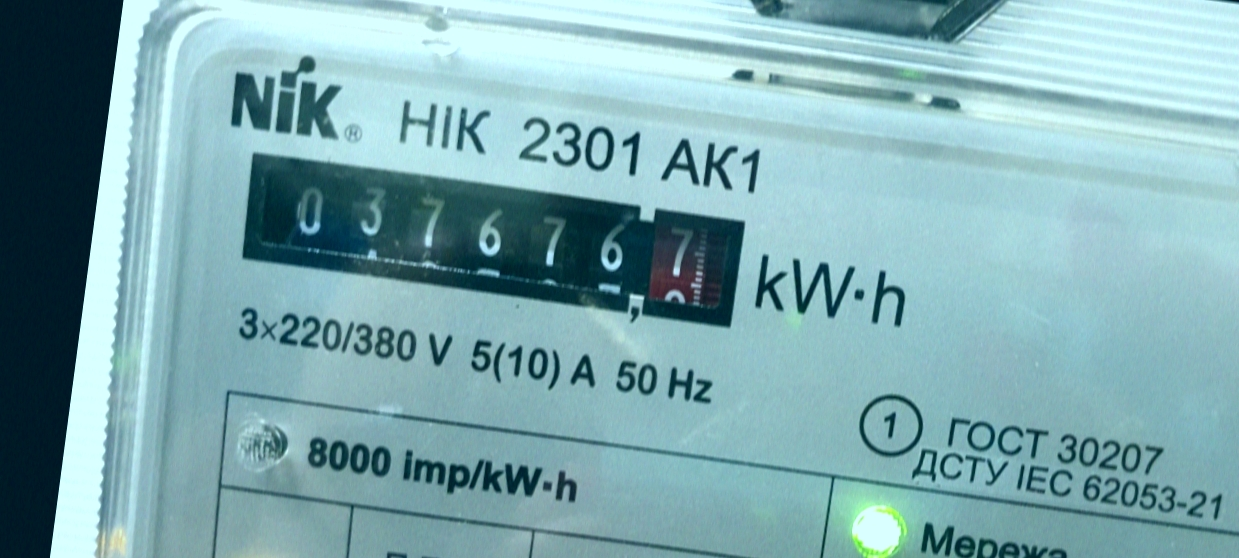0: (294, 178, 334, 237)
3: (357, 178, 392, 238)
6: (475, 199, 513, 257), (597, 215, 634, 273)
7: (535, 209, 574, 271), (414, 190, 452, 250), (665, 220, 700, 279)
screen: (224, 132, 767, 346)
